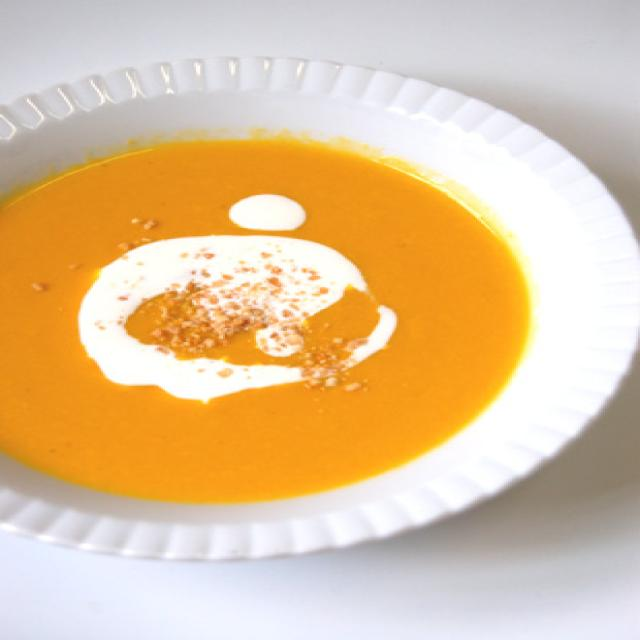汤锅炖物: (0, 34, 640, 562)
